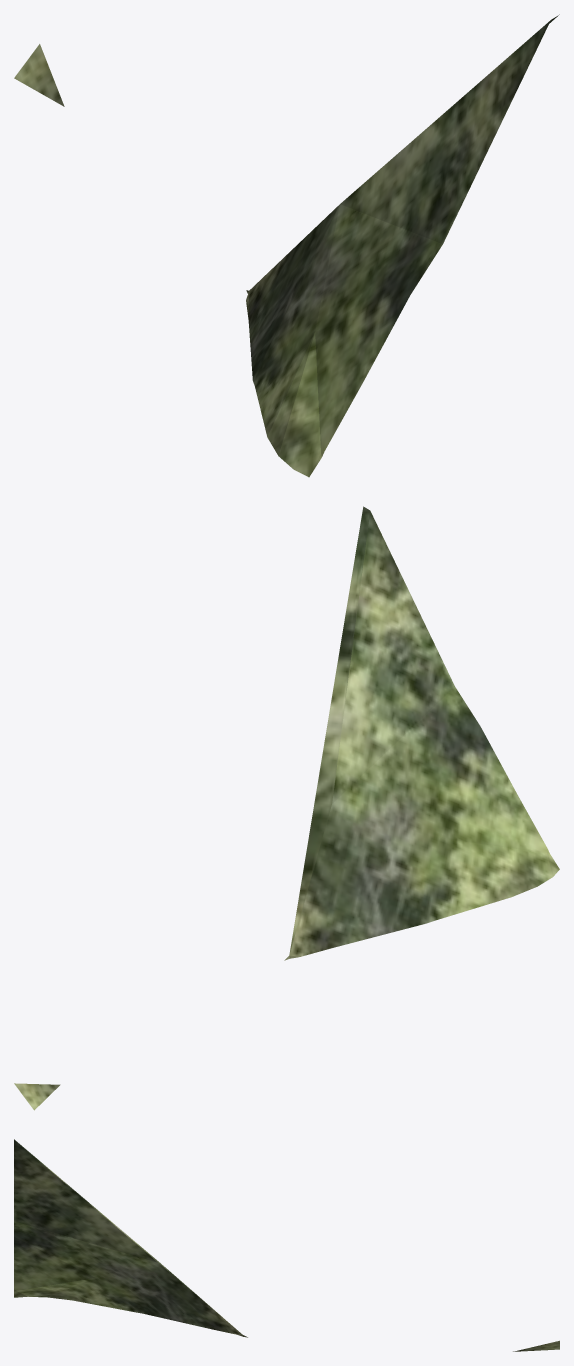
3 renders of one model, top to bottom at view 1: azimuth 30°, elevation 25°; view 2: azimuth 150°, elevation 25°; view 3: azimuth 270°, elevation 25°, orthographic. The views are drawn at different scales.
Size of the model in its own units: 3.59 by 5.42 by 11.8.
1 material, 1 textured.
